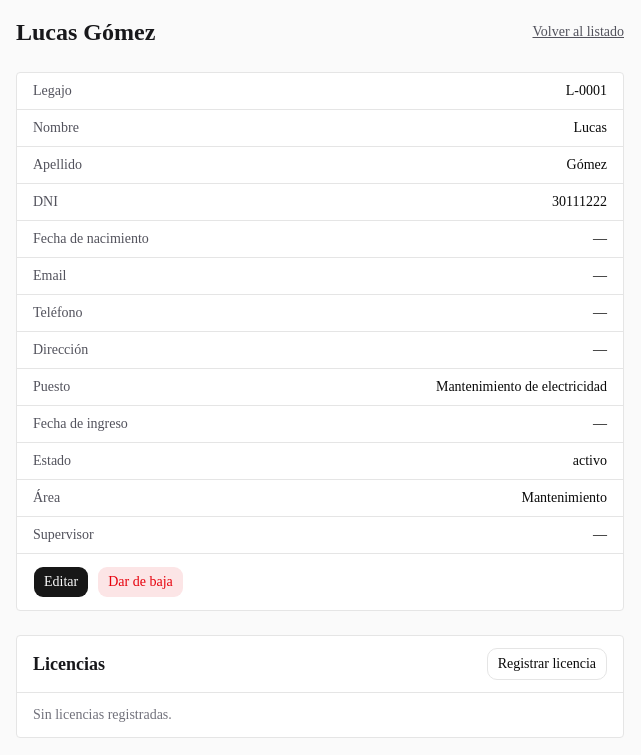
Test: FichaEmpleadoPage › permite editar y guarda los cambios
Expected: the heading "Lucas Gómez" is shown, [16,16,155,48]
Click the button "Editar" at [61, 582], box [33,566,89,598]
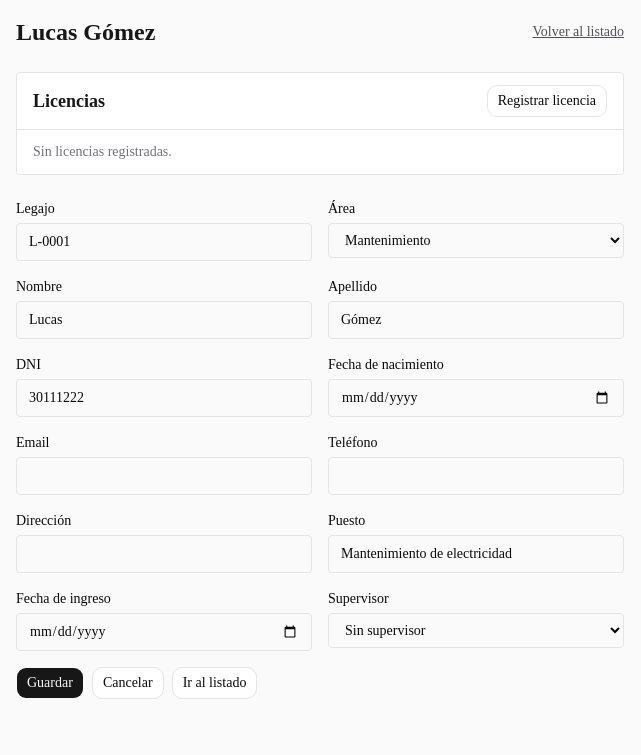
Replace the text in the field labelled "Puesto" with "Electricista senior" at [476, 554], box [328,535,624,573]
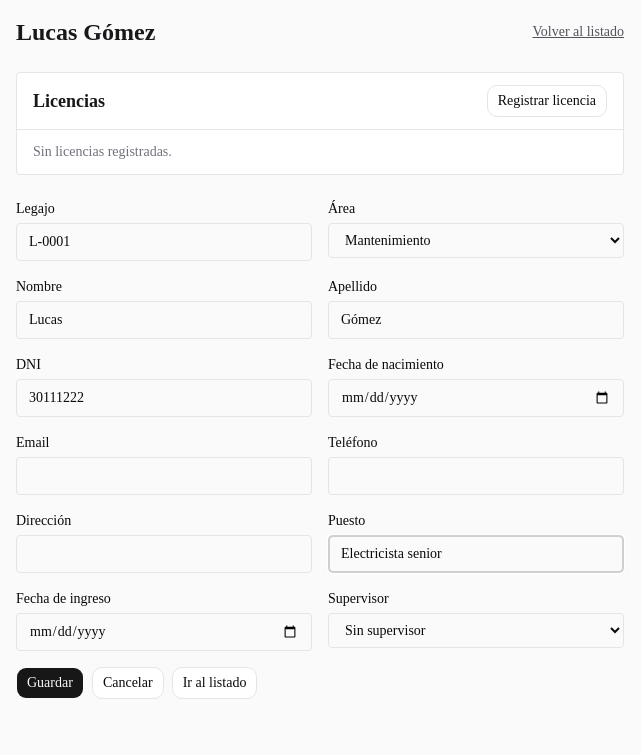
Click the button "Guardar" at [50, 683], box [16,667,84,699]
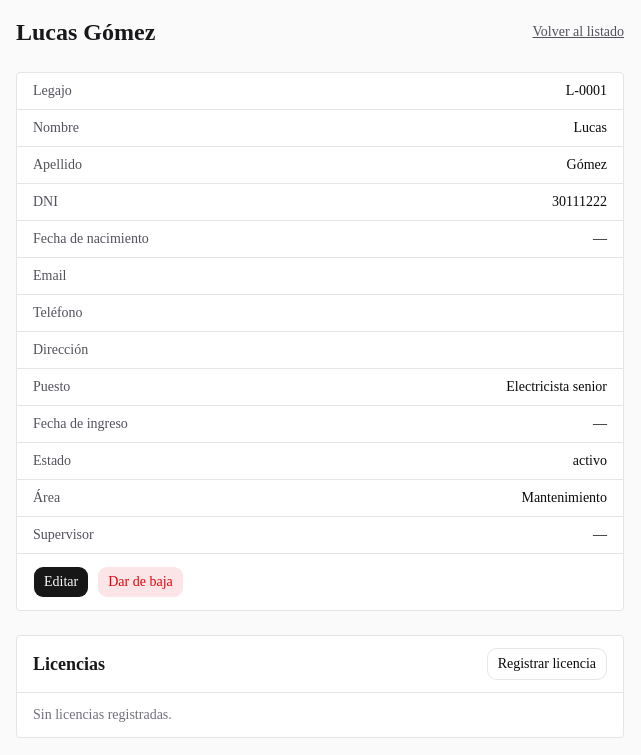
Now the text "Electricista senior" is shown, box [506,377,607,397]
Now the button "Guardar" is gone
